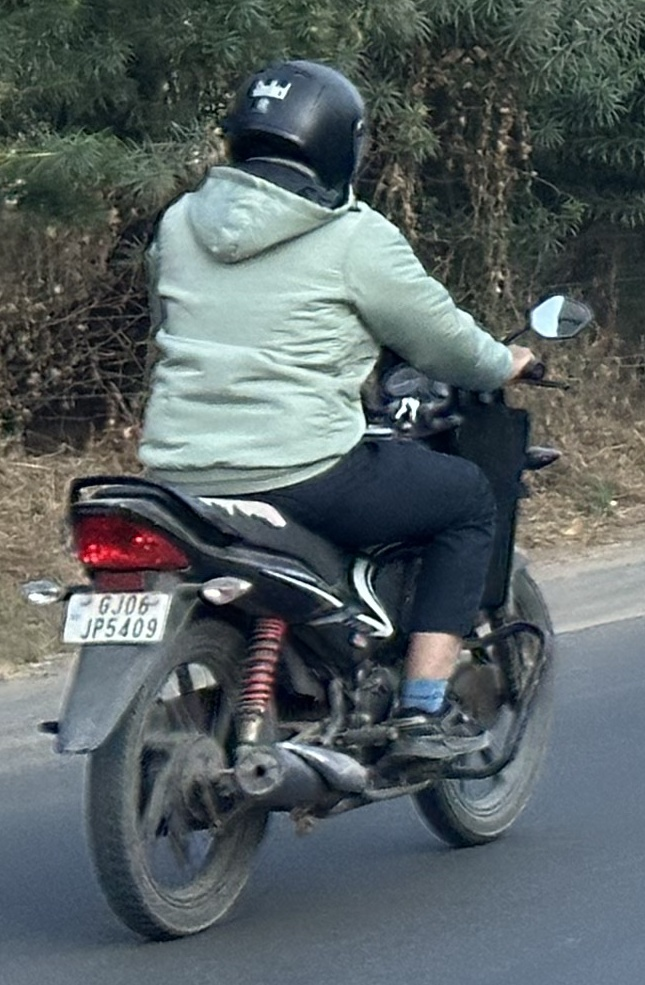BikeWithRider: (13, 56, 607, 939)
Helmet: (218, 58, 373, 208)
